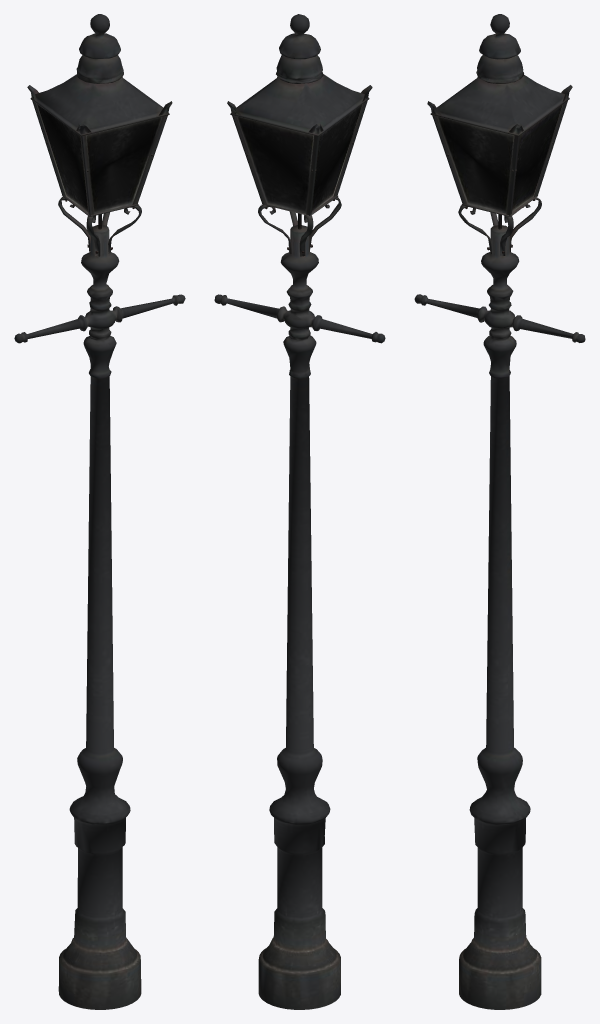
File: street_lamp_01.glb
3 views of the same model, side by side, from view 1: azimuth 30°, elevation 25°; view 2: azimuth 150°, elevation 25°; view 3: azimuth 330°, elevation 25° (orthographic).
Visible parts, largest first — view 1: street_lamp_01; view 2: street_lamp_01; view 3: street_lamp_01.
Boxes of the visible parts, bbox=[...] form: street_lamp_01: bbox=[14, 14, 185, 1009]; street_lamp_01: bbox=[214, 14, 385, 1009]; street_lamp_01: bbox=[414, 14, 585, 1009].
Size of the model in its own units: 0.7027 by 3.87 by 0.3844.
Materials: 3 (3 with a texture image).
